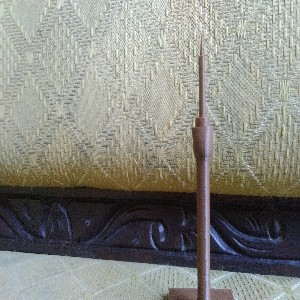solder: (191, 33, 215, 300)
